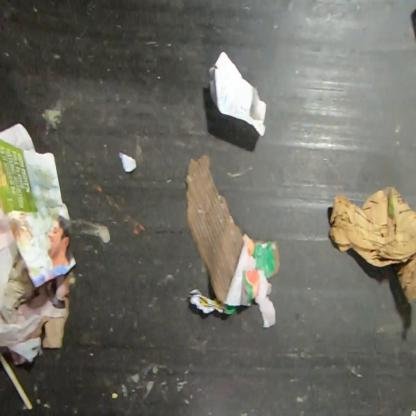cardboard: (328, 184, 415, 306), (184, 153, 244, 304), (209, 50, 268, 138), (248, 237, 281, 279)
